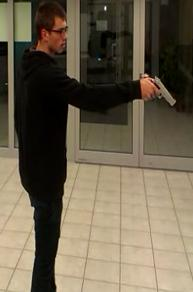pistol: (146, 75, 176, 107)
